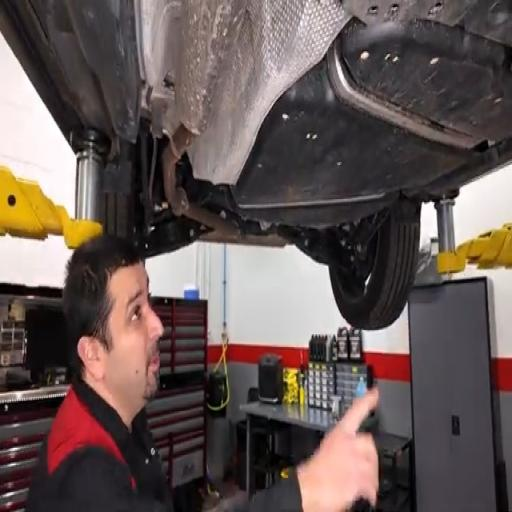exhaust: (154, 8, 330, 224)
tire: (330, 207, 420, 329), (101, 192, 134, 238)
wheel: (330, 207, 420, 329)
